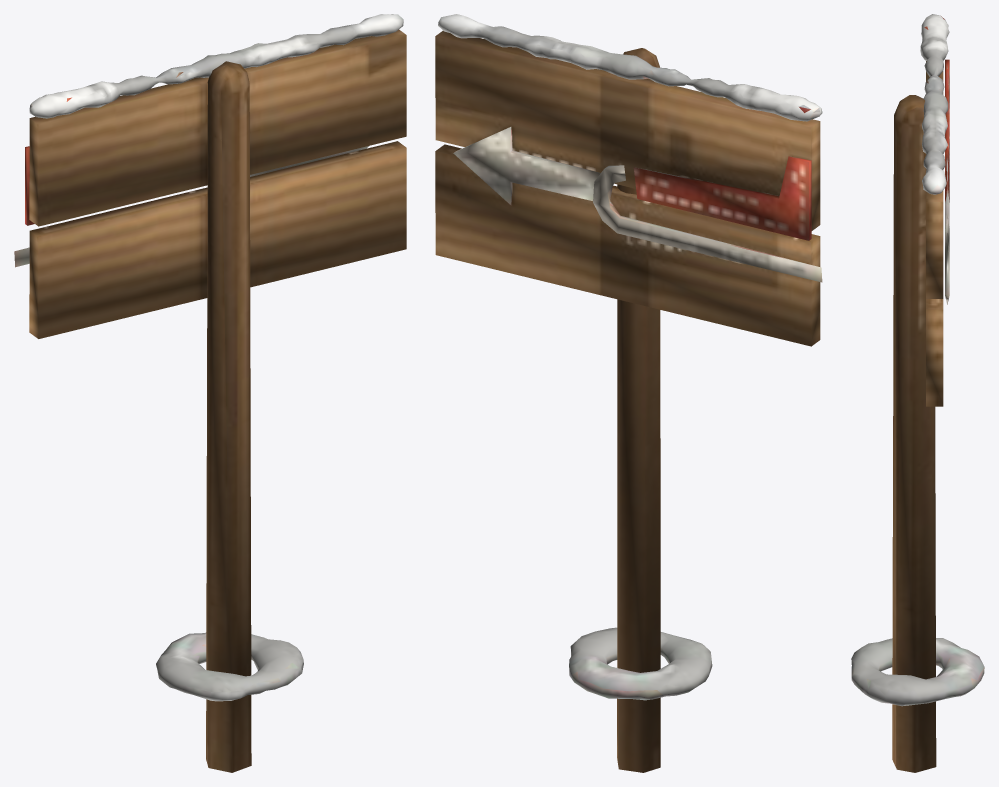
File: sign_slope.glb
3 views of the same model, side by side, from view 1: azimuth 30°, elevation 25°; view 2: azimuth 150°, elevation 25°; view 3: azimuth 270°, elevation 25° (orthographic). The views are drawn at different scales.
Visible parts, largest first — view 1: prop_sign_slope_wood, prop_sign_slope_felt; view 2: prop_sign_slope_wood, prop_sign_slope_felt; view 3: prop_sign_slope_wood, prop_sign_slope_felt.
Part boxes in pixels (x1,y1,x2,y2): prop_sign_slope_wood: (29, 29, 406, 772); prop_sign_slope_felt: (14, 14, 403, 701); prop_sign_slope_wood: (435, 31, 820, 772); prop_sign_slope_felt: (438, 14, 822, 700); prop_sign_slope_wood: (892, 61, 943, 772); prop_sign_slope_felt: (851, 14, 984, 706).
Size of the model in its own units: 1.03 by 1.8 by 0.3258.
2 materials, 2 textured.
